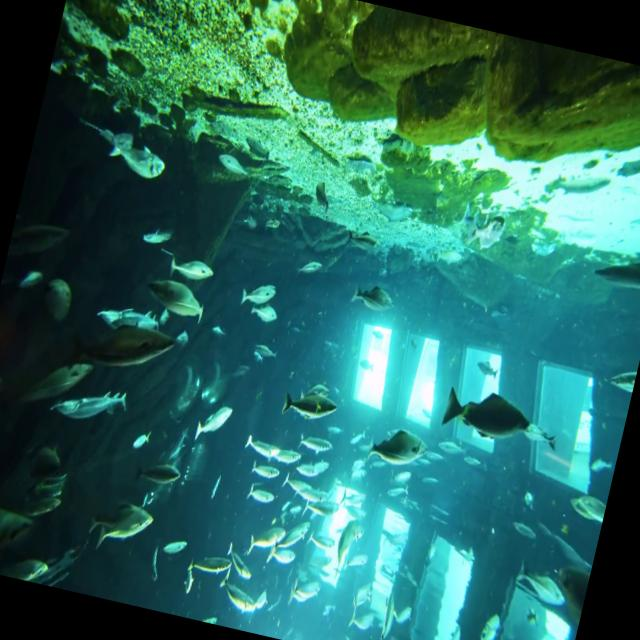fish: (443, 380, 554, 450), (78, 111, 170, 184), (46, 372, 129, 438), (92, 295, 190, 350), (86, 490, 158, 561), (362, 416, 433, 482), (144, 268, 214, 320), (274, 374, 336, 432), (162, 245, 224, 288), (215, 574, 270, 620), (345, 272, 398, 316), (194, 398, 235, 446), (235, 275, 279, 315), (242, 430, 284, 466), (142, 217, 178, 254), (330, 522, 355, 575)
